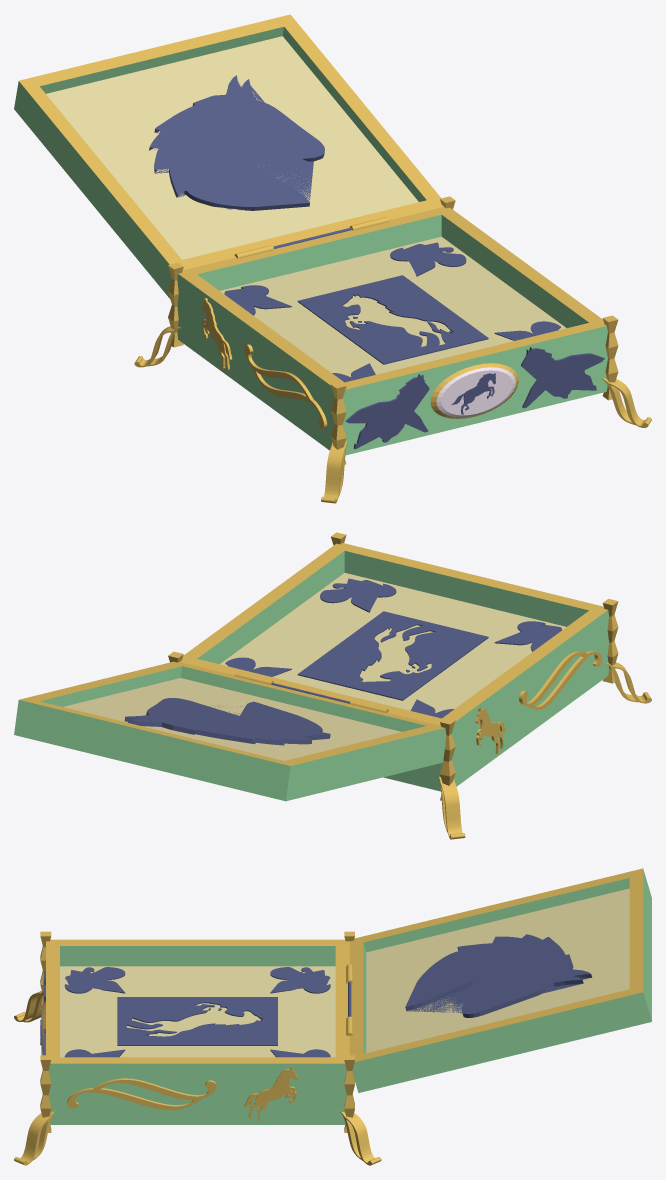
The model's file is musicBox3.fbx.
The picture shows the model from 3 angles, top to bottom: view 1: azimuth 30°, elevation 25°; view 2: azimuth 150°, elevation 25°; view 3: azimuth 270°, elevation 25°; orthographic projection. The views are drawn at different scales.
Visible parts, largest first — view 1: musicBox3; view 2: musicBox3; view 3: musicBox3.
Boxes of the visible parts, x1,y1,x2,y2 form: musicBox3: (14, 14, 651, 503); musicBox3: (14, 532, 651, 839); musicBox3: (14, 868, 651, 1165).
Bounding box in the file's own units: 1578 × 786 × 2822.
